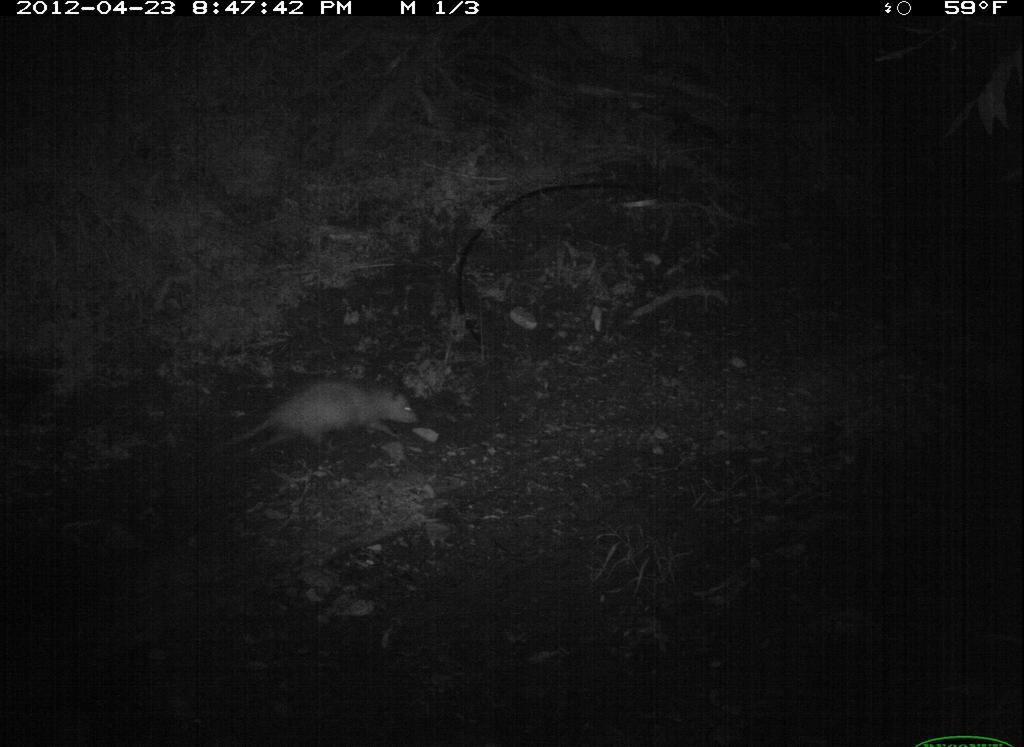opossum: (226, 368, 425, 455)
